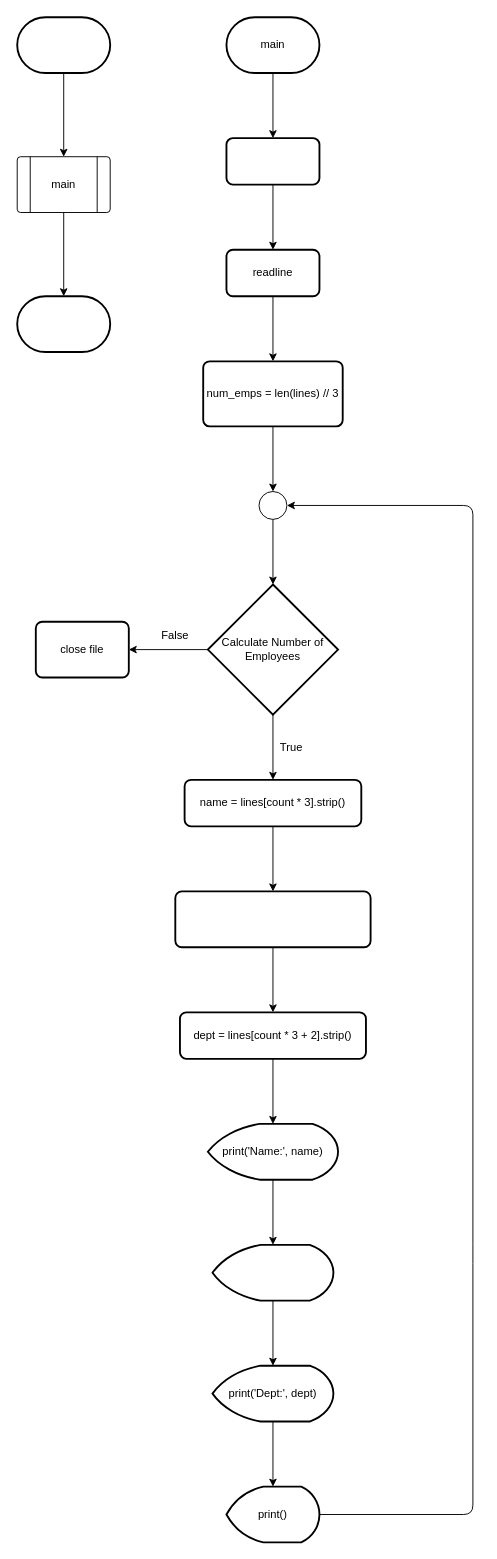
This 497x1559 diagram has some shape labels left out. The shapes that lost their labels are listed below. From the top down, each one's centre as x and y in pixels, then its label:
the point at 63,44: Start
the point at 272,161: open file
the point at 63,323: End
the point at 272,919: id_num = lines[count * 3 + 1].strip()
the point at 272,1272: print('ID:', id_num)
